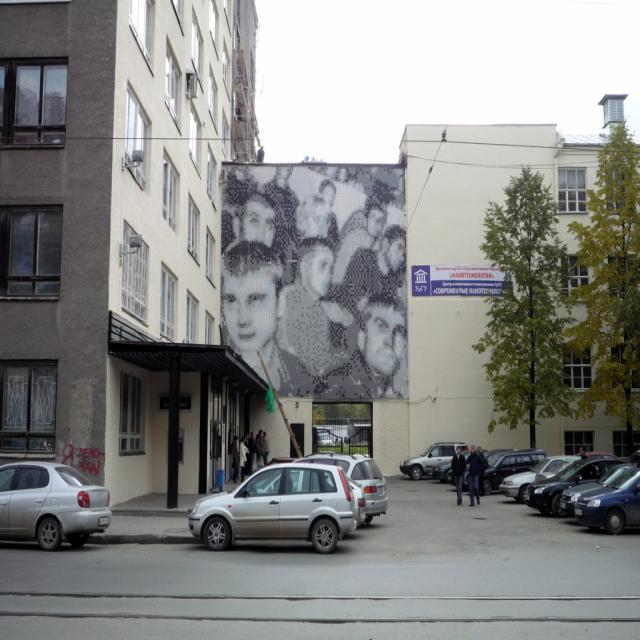car: (184, 458, 359, 555), (291, 445, 388, 533)
